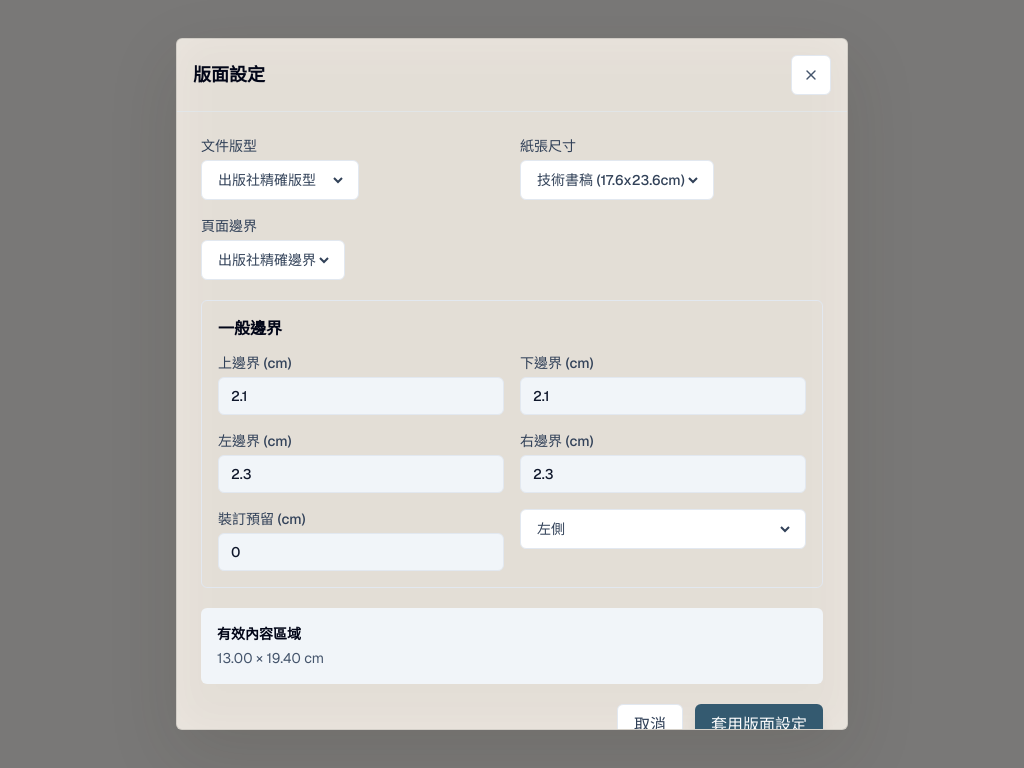
Test case: ExportSettingsModal › disables apply when the selected geometry leaves too little content width
Select "自訂" in the dropdown named "紙張尺寸" at (617, 180), box top-left (533, 170), bottom-right (701, 190)
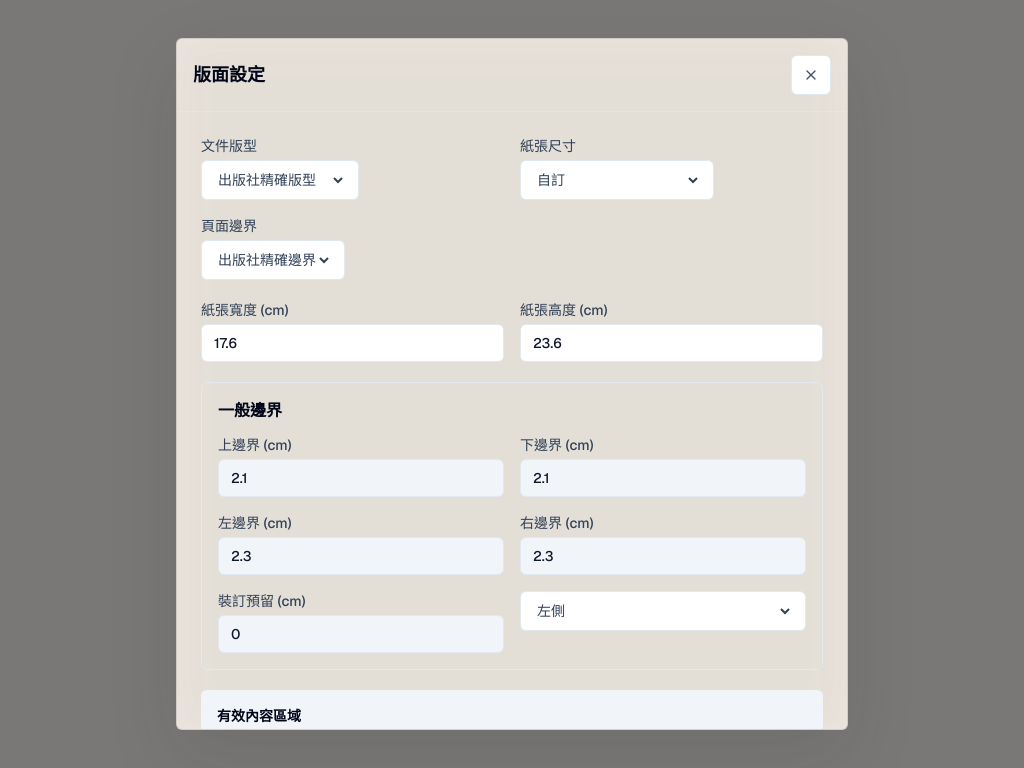
Replace the text in the number field labelled "紙張寬度 (cm)" with "10" at (352, 343), box top-left (201, 324), bottom-right (504, 362)
(page scrolled)
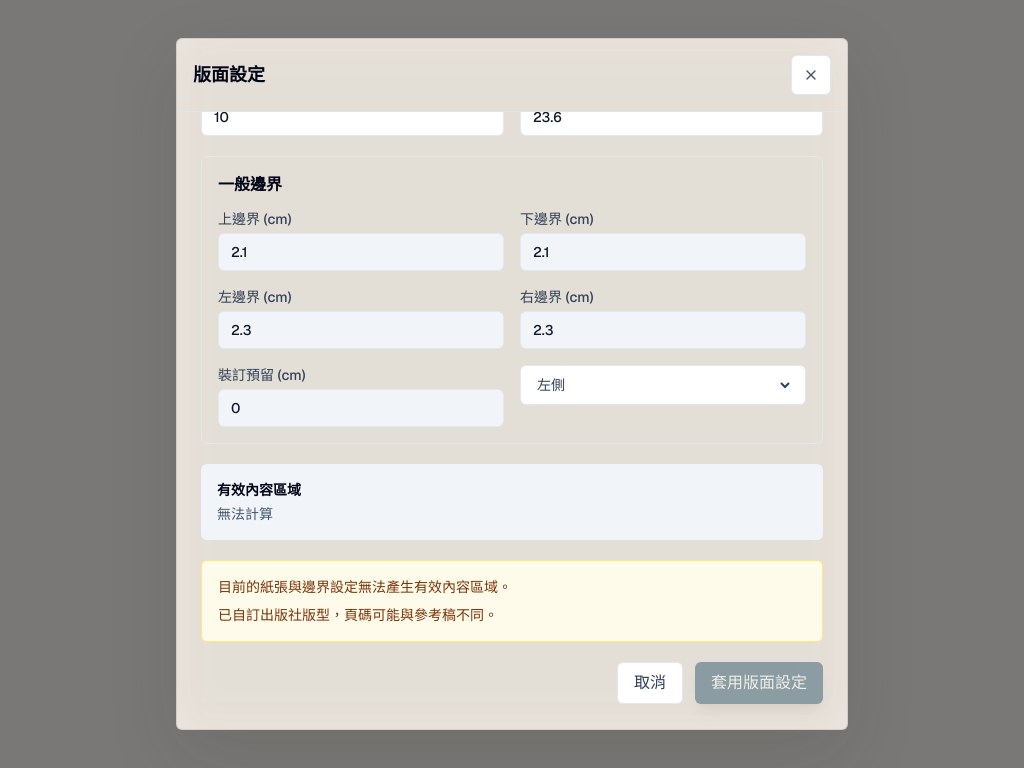
Expected: the button "套用版面設定" is disabled, top-left (695, 662), bottom-right (823, 704)
